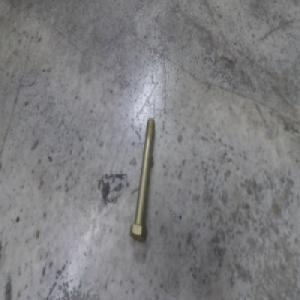Bolt: (130, 118, 155, 242)
